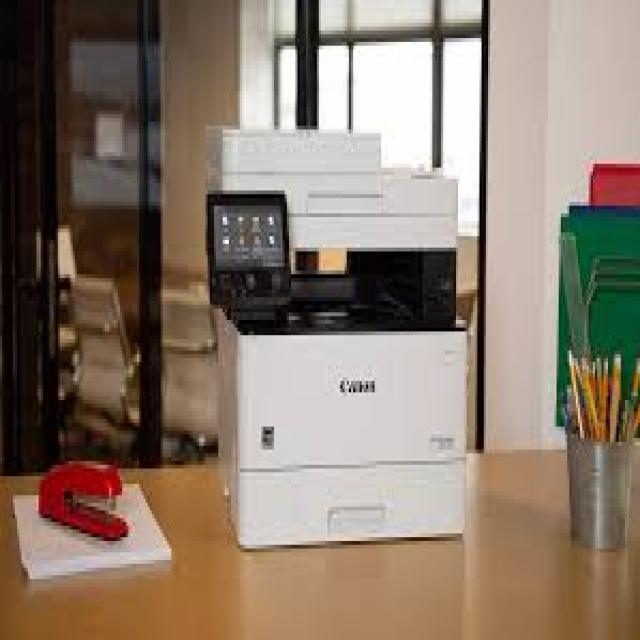printer: (203, 122, 469, 548)
